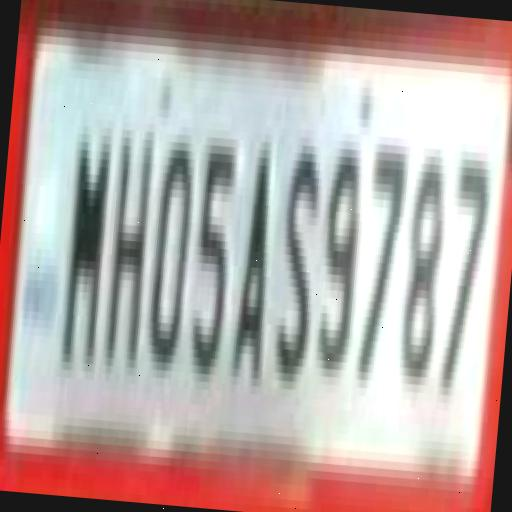number plate: (10, 0, 512, 493)
